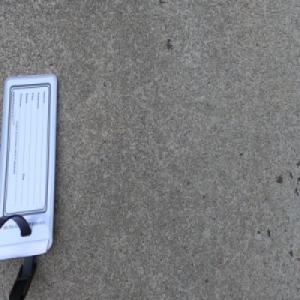LuggageTag: (0, 69, 58, 300)
